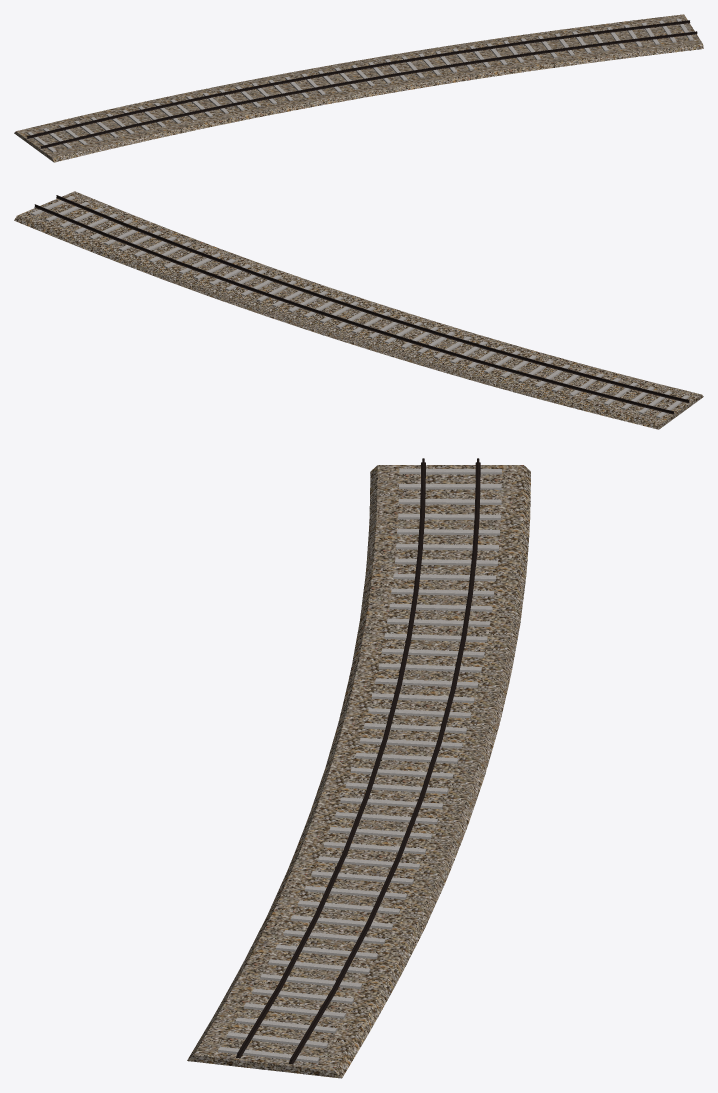
File: voiesFerreesCourbe40m.obj
The picture shows the model from 3 angles, top to bottom: view 1: azimuth 30°, elevation 25°; view 2: azimuth 150°, elevation 25°; view 3: azimuth 270°, elevation 25°; orthographic projection. The views are drawn at different scales.
Parts seen in each view (by area): view 1: ballas40m15degres_Plane.013, curve40m15degres_Point.011, traverse40m15degres_Cube.014; view 2: ballas40m15degres_Plane.013, traverse40m15degres_Cube.014, curve40m15degres_Point.011; view 3: ballas40m15degres_Plane.013, traverse40m15degres_Cube.014, curve40m15degres_Point.011.
Boxes of the visible parts, x1,y1,x2,y2 form: ballas40m15degres_Plane.013: (14, 14, 703, 162); curve40m15degres_Point.011: (27, 20, 697, 148); traverse40m15degres_Cube.014: (27, 18, 693, 152); ballas40m15degres_Plane.013: (14, 191, 703, 429); traverse40m15degres_Cube.014: (31, 196, 688, 418); curve40m15degres_Point.011: (34, 195, 689, 414); ballas40m15degres_Plane.013: (187, 465, 530, 1078); traverse40m15degres_Cube.014: (218, 468, 501, 1063); curve40m15degres_Point.011: (236, 458, 480, 1064).
Size of the model in its own units: 3933 by 39.86 by 943.
